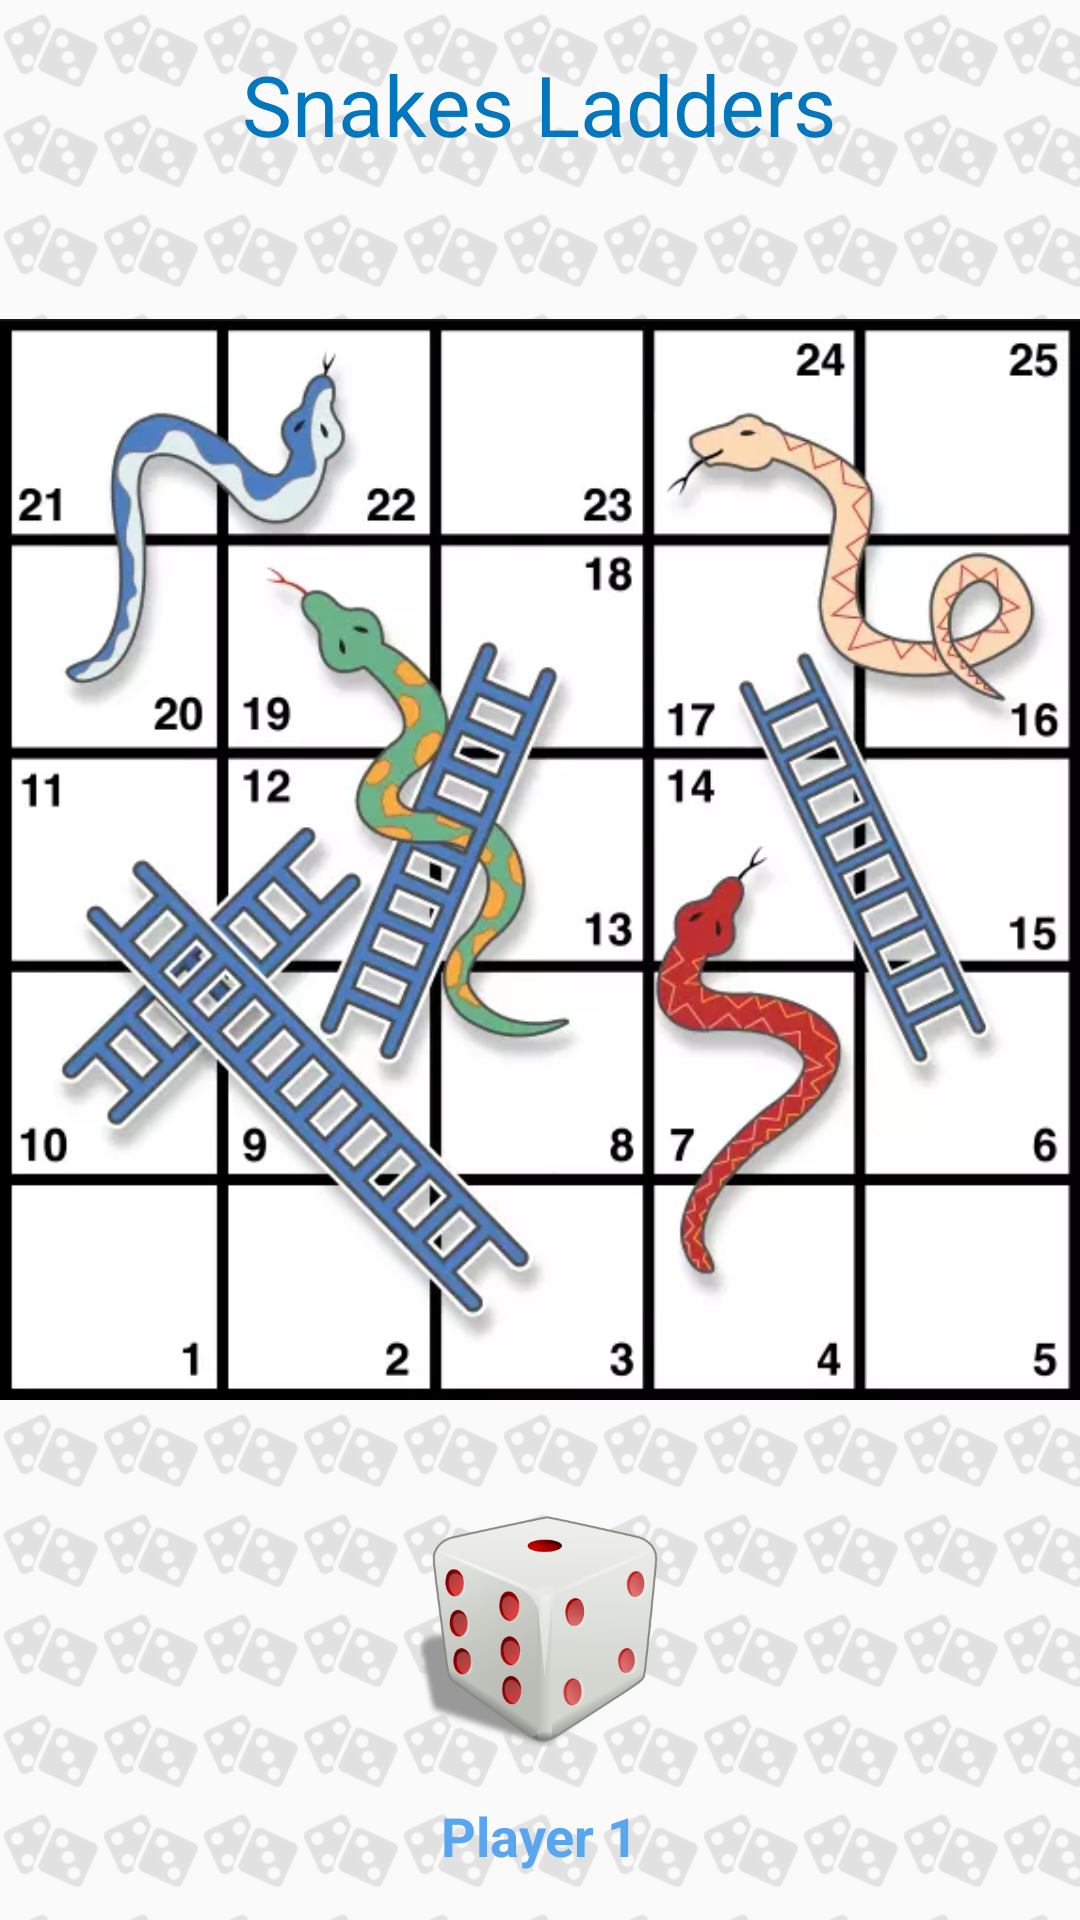

Icons on this 1080px×1920px Android screen, each with its box as (x1, y1, x2, y2):
Press for Dice Roll: (420, 1516, 660, 1751)
